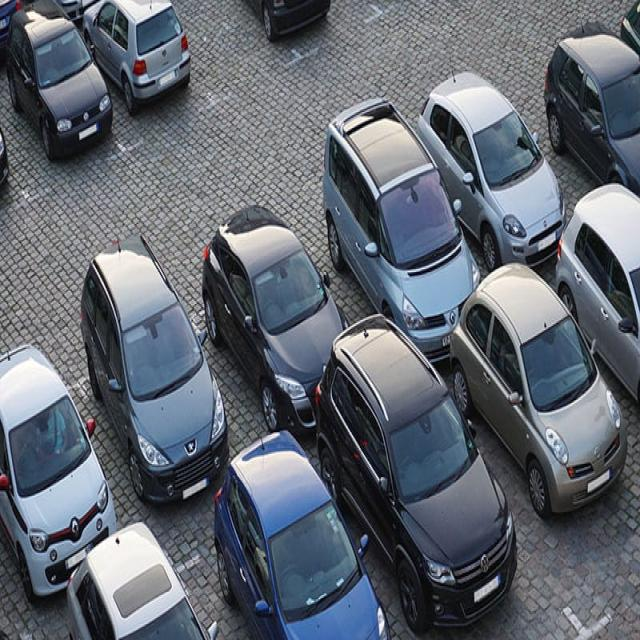car: (316, 312, 518, 632), (450, 260, 628, 520), (323, 96, 481, 359), (80, 231, 230, 505), (215, 428, 392, 638), (202, 202, 350, 436), (1, 343, 118, 602), (418, 70, 566, 272), (555, 182, 640, 406), (66, 519, 218, 639), (7, 0, 114, 161), (544, 28, 640, 195), (83, 0, 191, 115), (250, 0, 332, 42), (621, 0, 640, 57)
